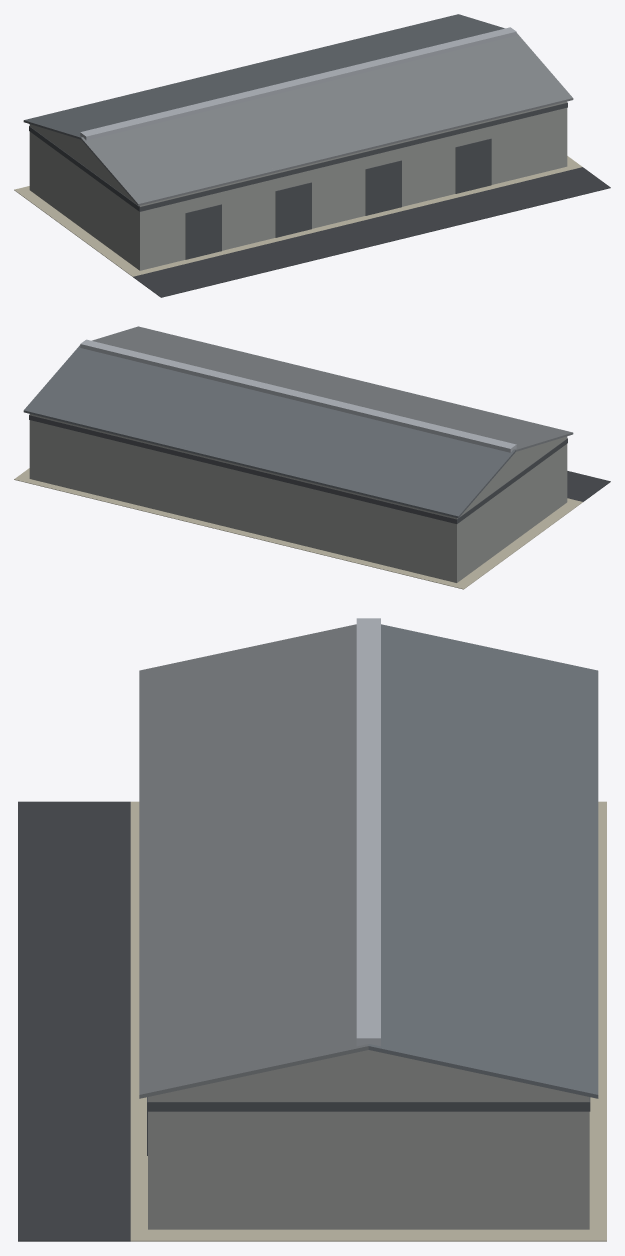
Rendered from site_hall_l.glb.
3 views of the same model, one above another, from view 1: azimuth 30°, elevation 25°; view 2: azimuth 150°, elevation 25°; view 3: azimuth 270°, elevation 25° (orthographic). The views are drawn at different scales.
Parts seen in each view (by area): view 1: site_hall_l; view 2: site_hall_l; view 3: site_hall_l.
Boxes of the visible parts, x1,y1,x2,y2 form: site_hall_l: [14, 14, 610, 297]; site_hall_l: [14, 326, 610, 589]; site_hall_l: [18, 618, 606, 1241].
Size of the model in its own units: 60 by 12.35 by 34.
